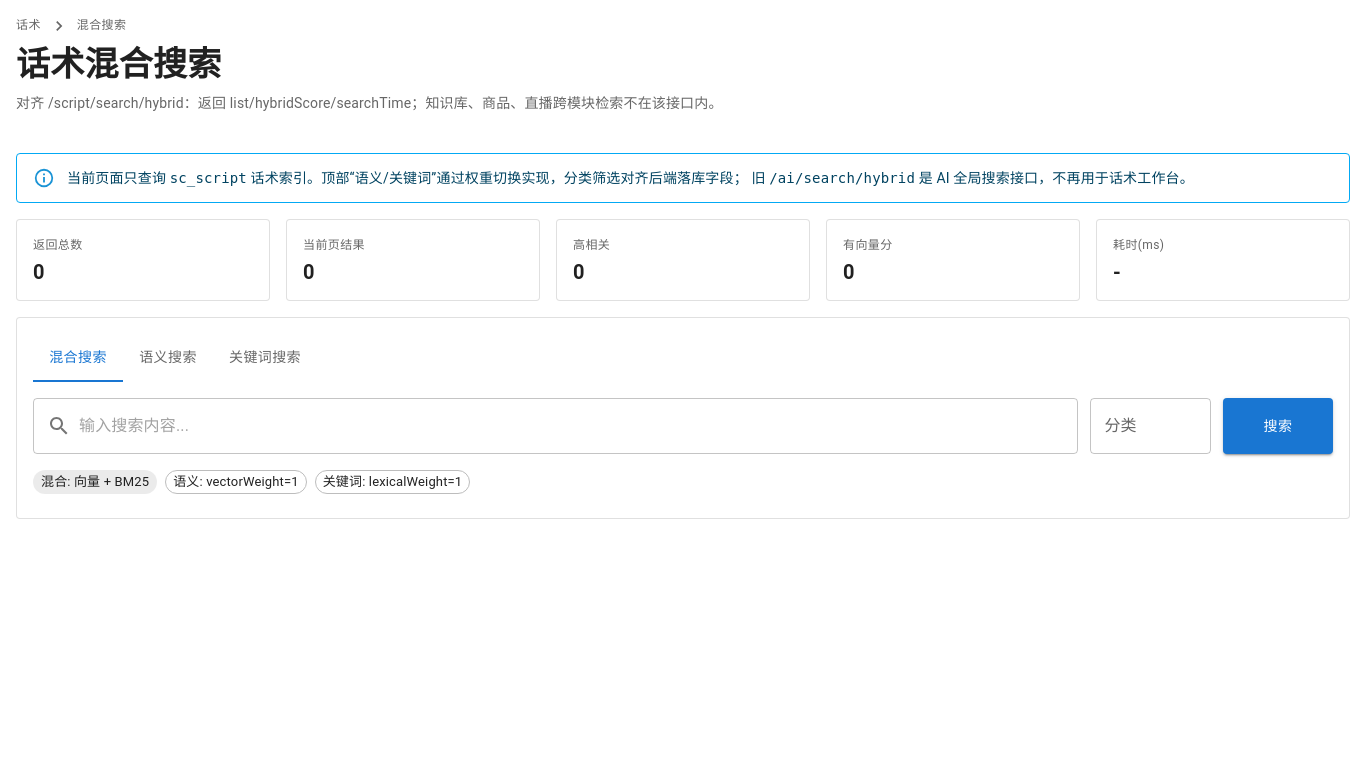
Test: Script edge pages › HybridSearchPage relies on scriptApi-normalized search results
The image size is (1366, 768).
Step 1. Type "包装" into the field with placeholder "输入搜索内容..." → (579, 426), box [79,398,1078,454]
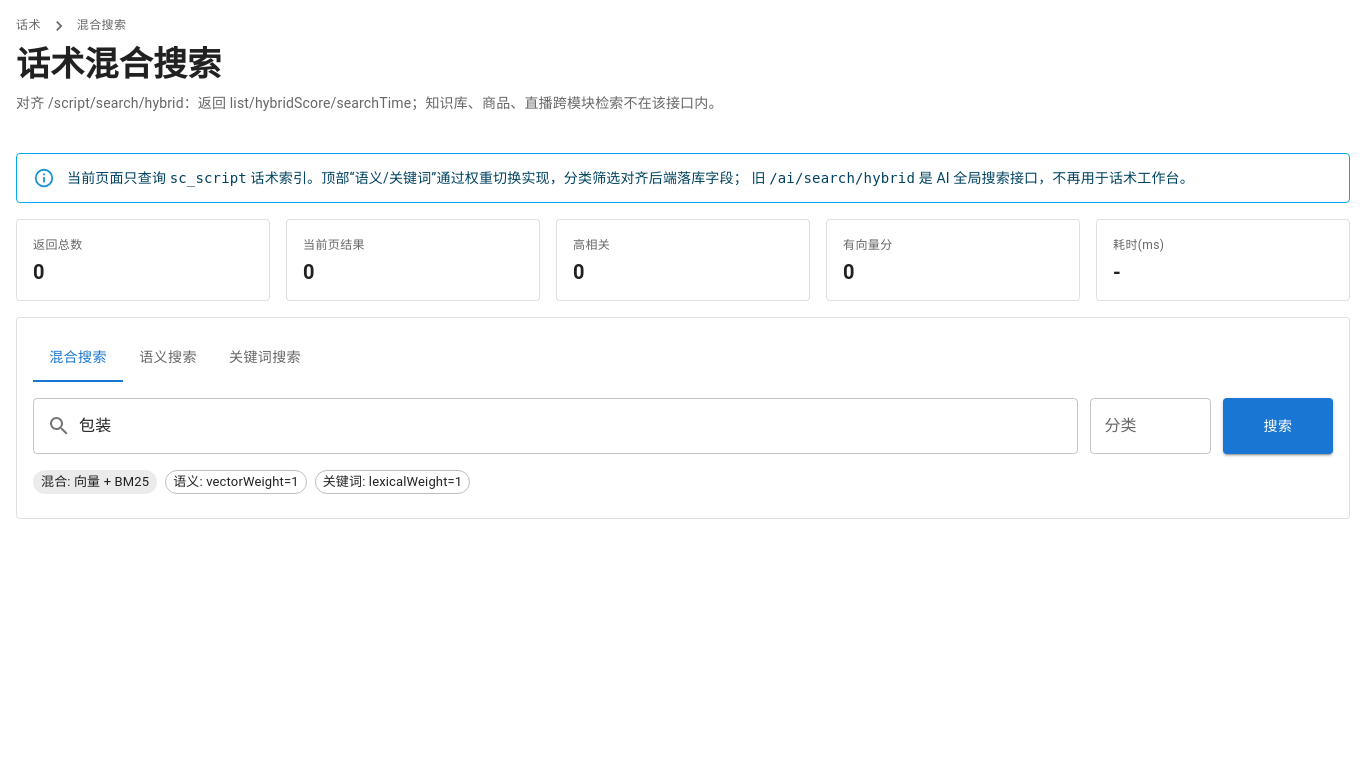
Step 2. Click the button "搜索" → (1278, 426), box [1223,398,1333,454]
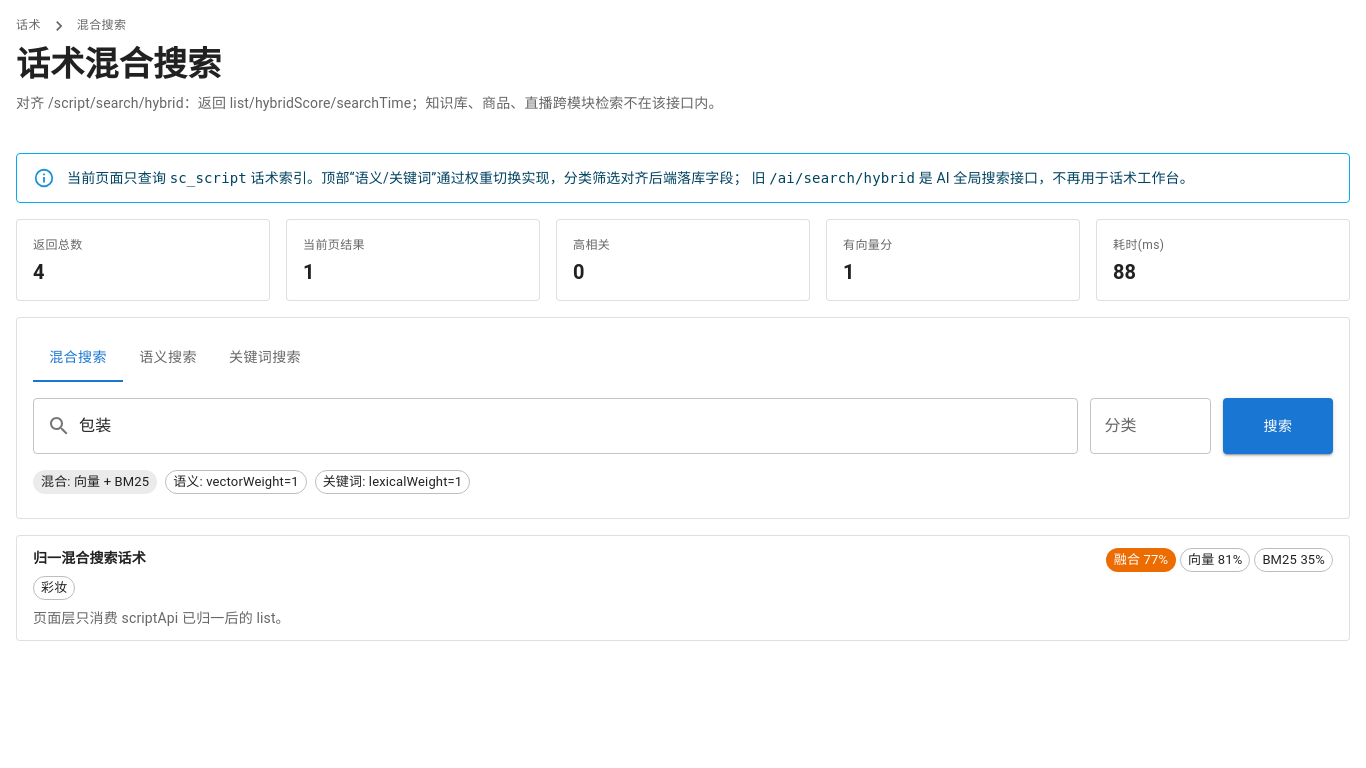
Check: the heading "归一混合搜索话术" is shown, box [33,548,146,570]
Check: the text "融合 77%" is shown, box [1114,552,1168,567]
Check: the heading "4" is shown, box [33,260,45,284]
